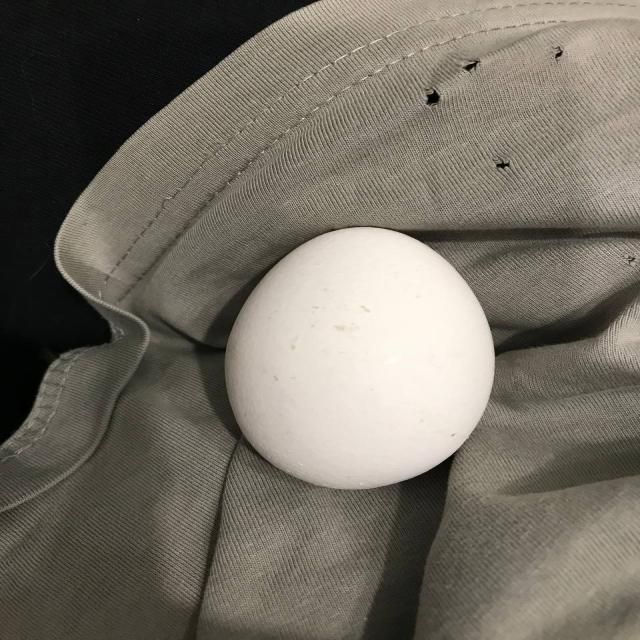egg: (224, 225, 498, 492)
